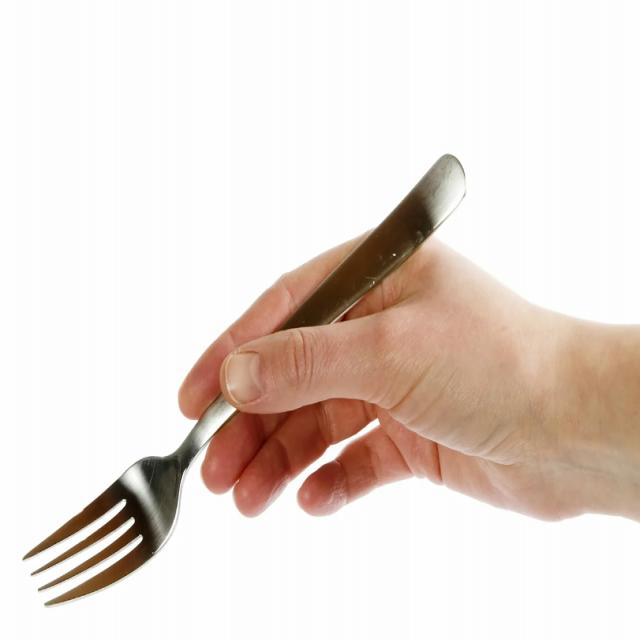fork: (22, 153, 468, 609)
